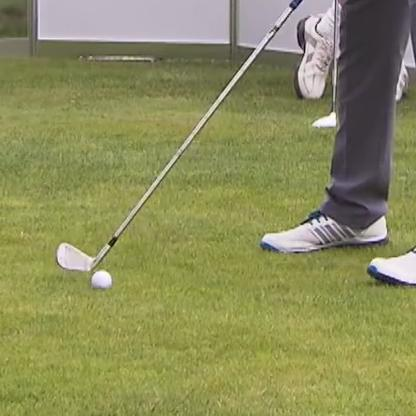golfball: (89, 267, 111, 286)
